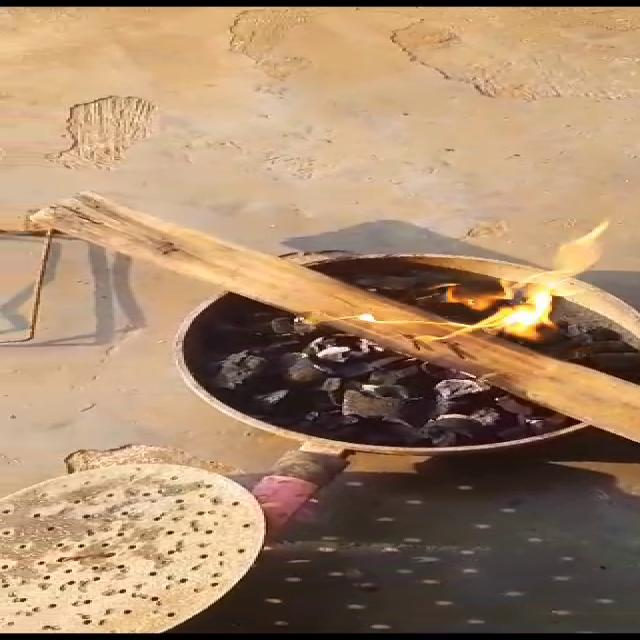Fire: (320, 217, 640, 375)
